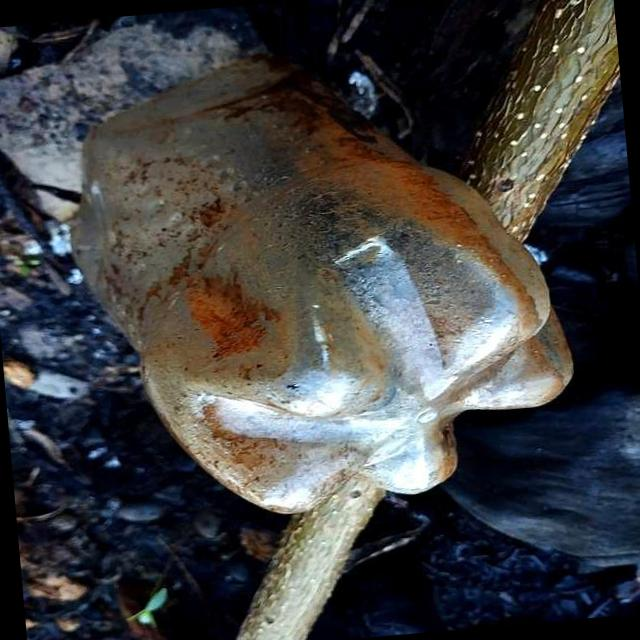Non-biodegradable: (61, 42, 585, 535)
